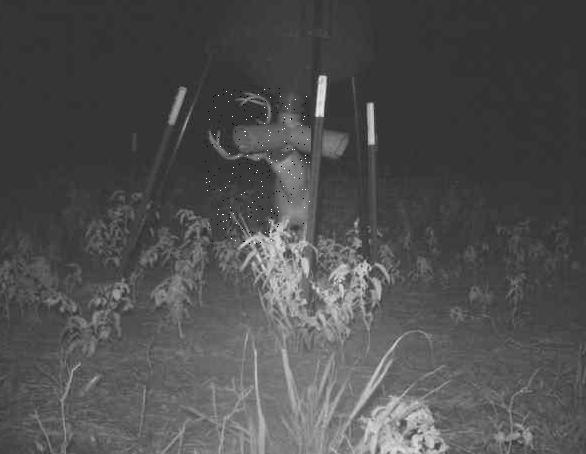Deer: (204, 88, 310, 244)
